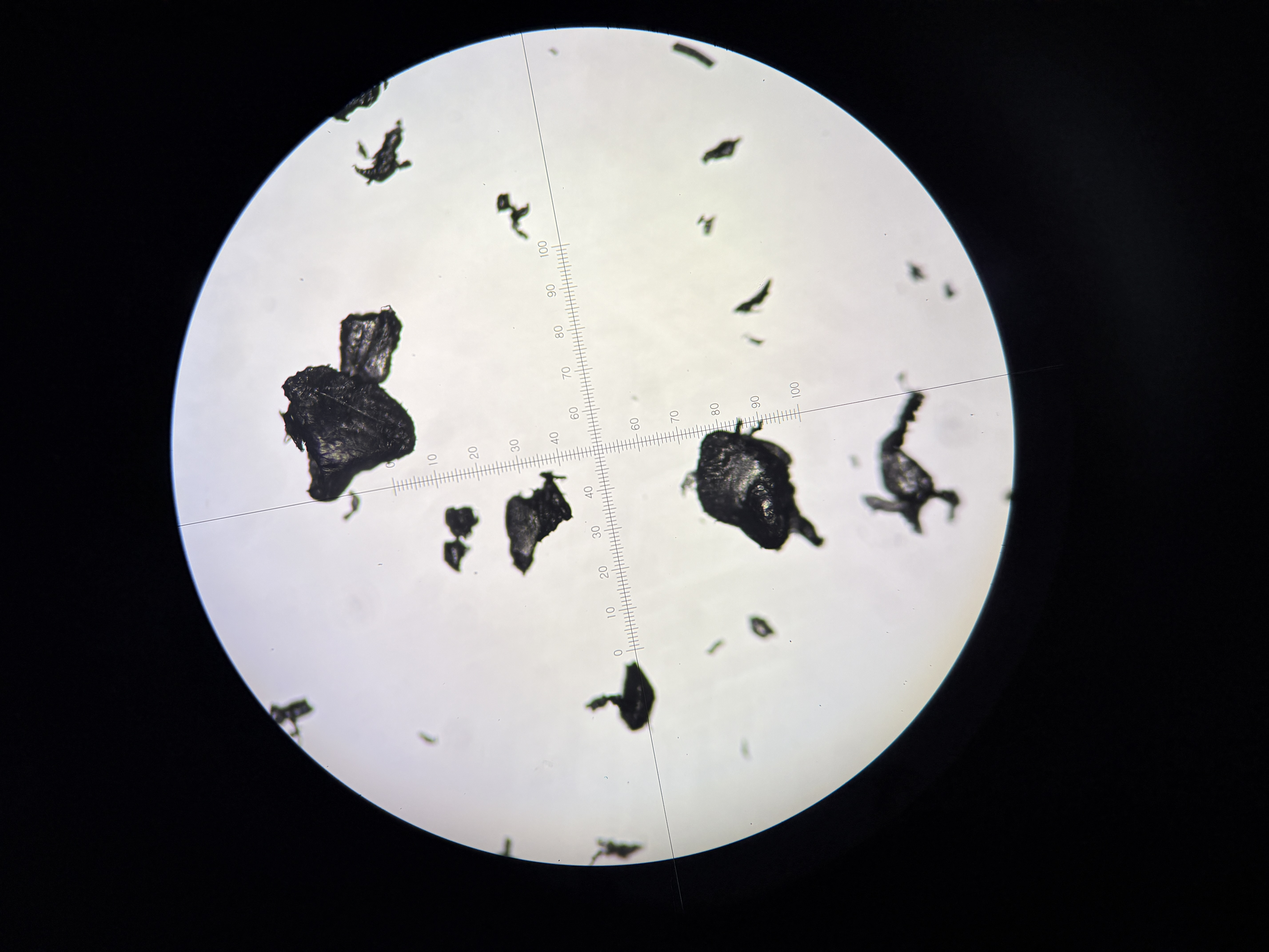microplastic: (277, 363, 418, 504), (680, 418, 826, 552), (862, 372, 962, 537), (500, 469, 575, 578), (336, 302, 406, 389), (582, 658, 659, 734), (351, 117, 414, 187), (329, 78, 389, 124), (268, 696, 314, 740), (588, 835, 646, 867), (495, 192, 532, 240), (729, 278, 773, 317), (441, 504, 480, 540), (698, 136, 744, 165), (440, 537, 475, 573), (671, 42, 716, 69), (748, 614, 776, 642), (343, 488, 361, 524), (695, 213, 719, 238), (904, 259, 928, 284), (498, 834, 518, 860), (704, 637, 727, 657), (415, 729, 442, 746), (741, 333, 767, 347), (355, 139, 370, 161), (943, 282, 958, 300), (548, 47, 560, 56)
